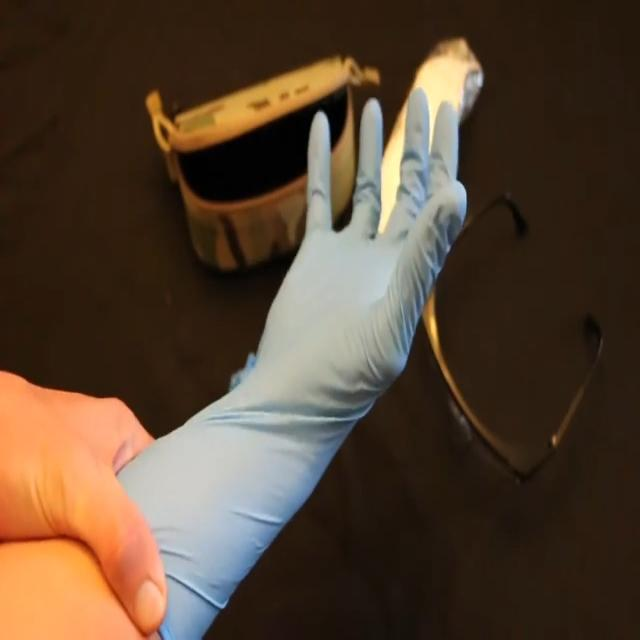Gloves: (72, 82, 492, 640)
